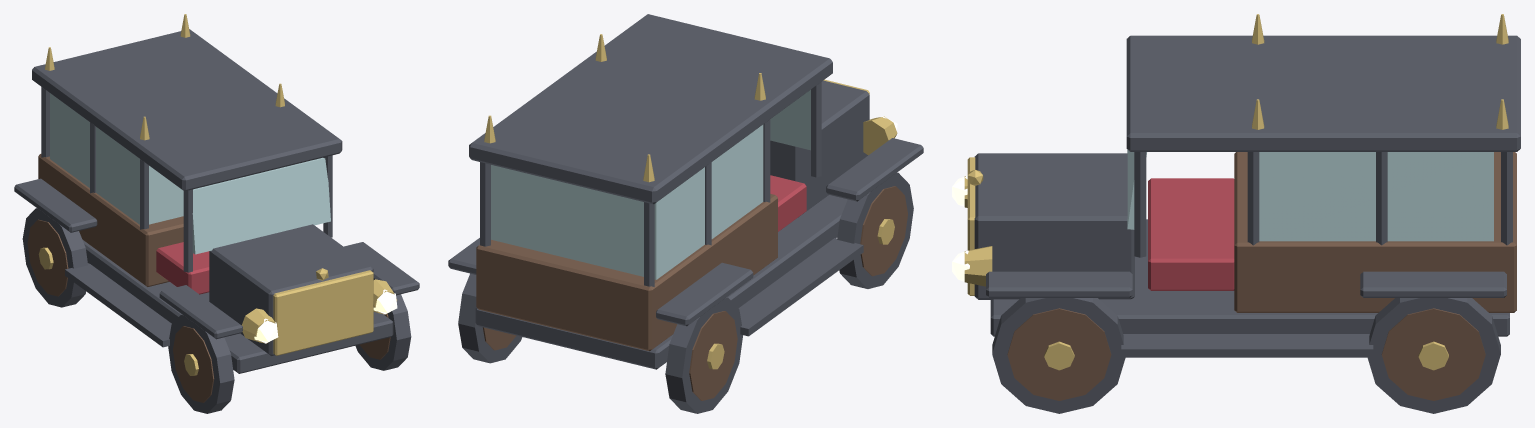
File: outdoor_carriage.glb
3 views of the same model, side by side, from view 1: azimuth 30°, elevation 25°; view 2: azimuth 150°, elevation 25°; view 3: azimuth 270°, elevation 25° (orthographic). The views are drawn at different scales.
Parts seen in each view (by area): view 1: Outdoor_Carriage; view 2: Outdoor_Carriage; view 3: Outdoor_Carriage.
Boxes of the visible parts, x1,y1,x2,y2 form: Outdoor_Carriage: (14,14,419,413); Outdoor_Carriage: (448,14,923,413); Outdoor_Carriage: (952,14,1520,413).
Size of the model in its own units: 2.76 by 2.96 by 5.14.
